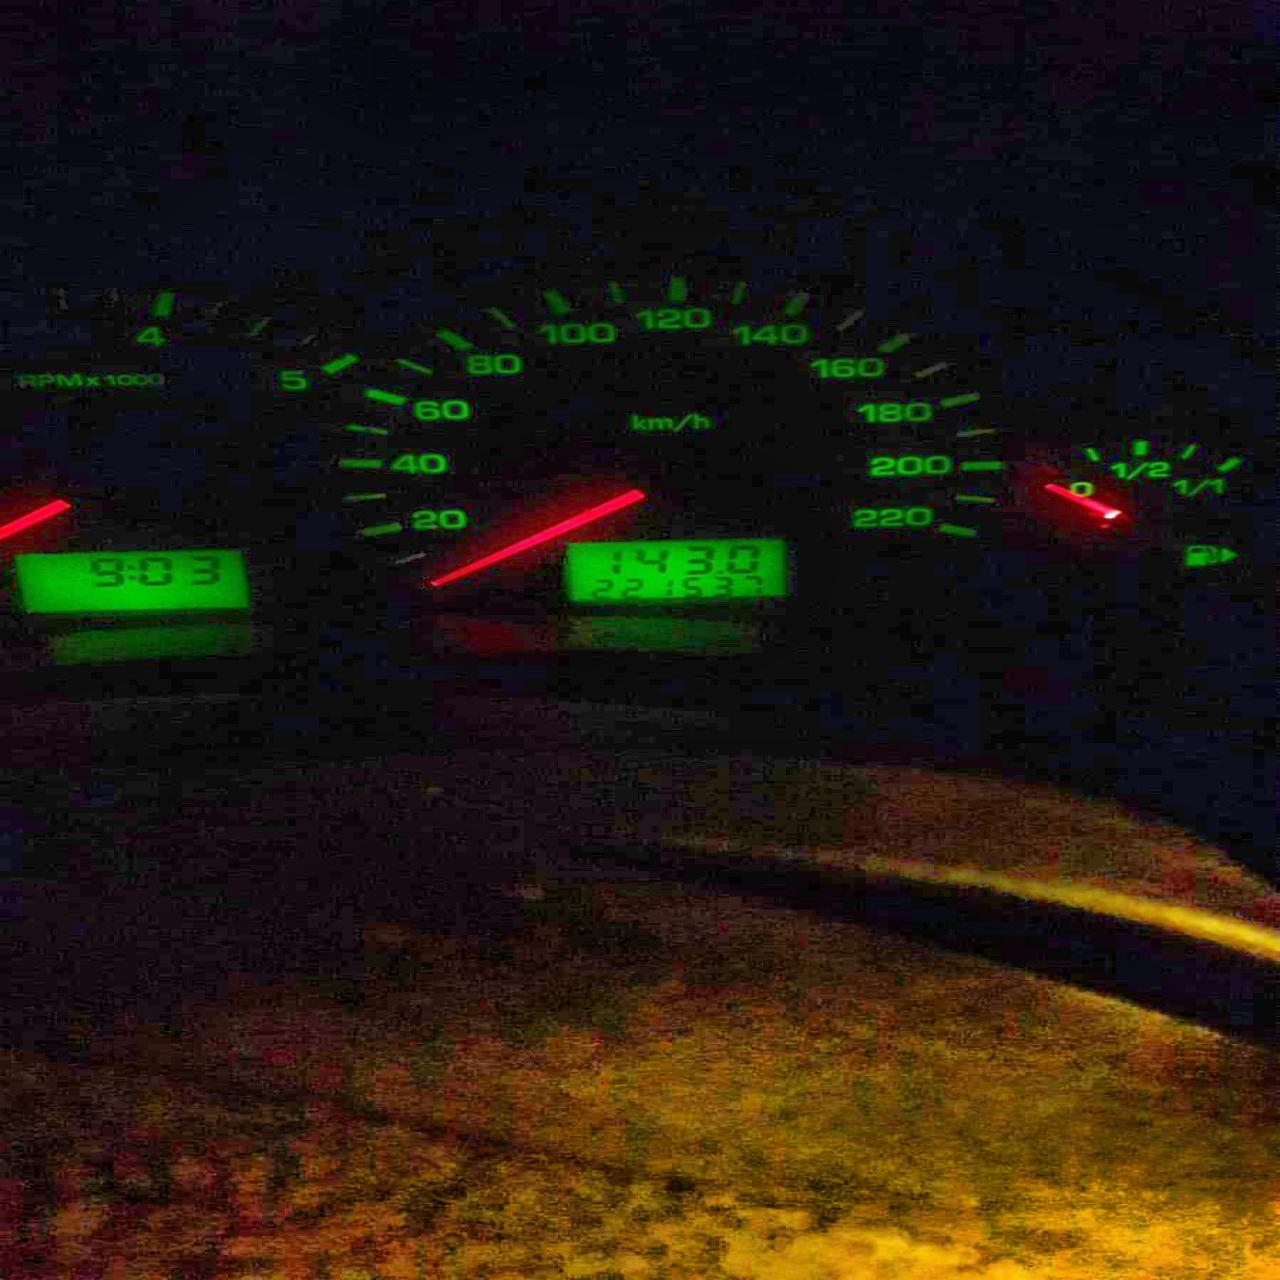-: (715, 570, 722, 574)
0: (727, 544, 758, 573)
1: (610, 549, 622, 573), (663, 579, 674, 597)
2: (591, 578, 614, 600), (621, 577, 642, 599)
3: (683, 545, 714, 574), (712, 576, 731, 598)
4: (635, 550, 668, 572)
5: (681, 577, 703, 598)
7: (742, 576, 763, 595)
odometer: (565, 538, 789, 601)
